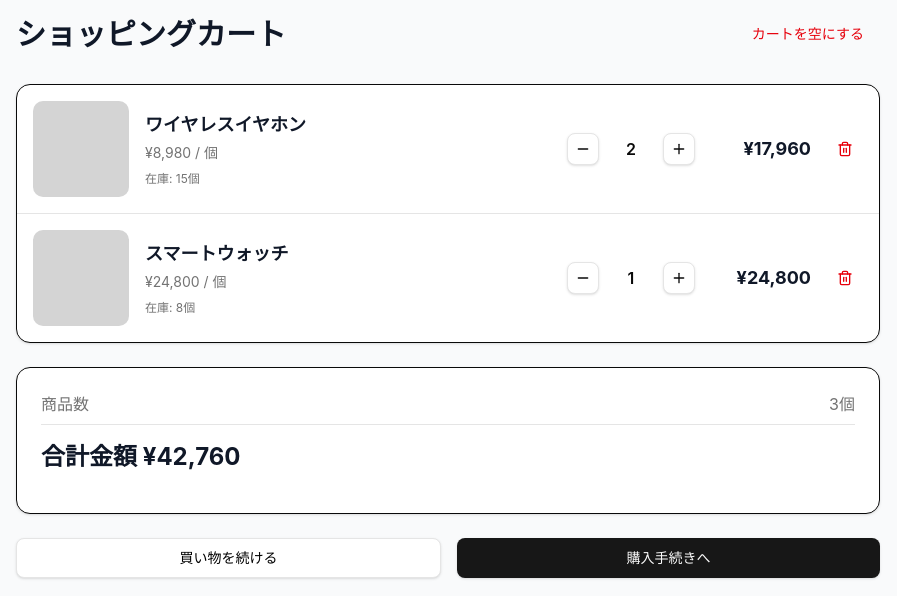
Test case: Cart › 「カートを空にする」ボタンで全商品が削除される
Click the button "カートを空にする" at (808, 34), box left=736, top=16, right=880, bottom=52
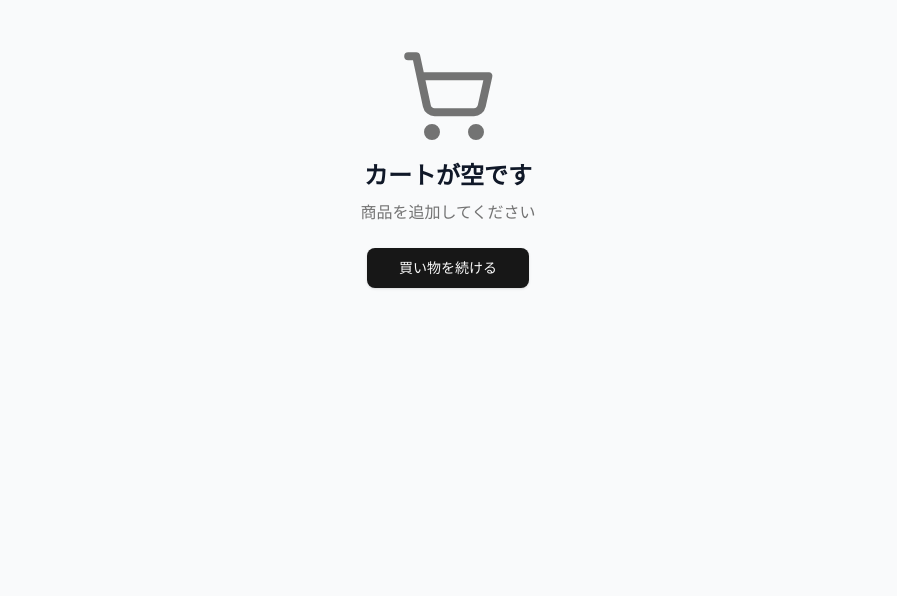
expect the heading "ワイヤレスイヤホン" is gone: met
expect the heading "スマートウォッチ" is gone: met
expect the heading "カートが空です" is shown: met, box left=364, top=161, right=532, bottom=190
